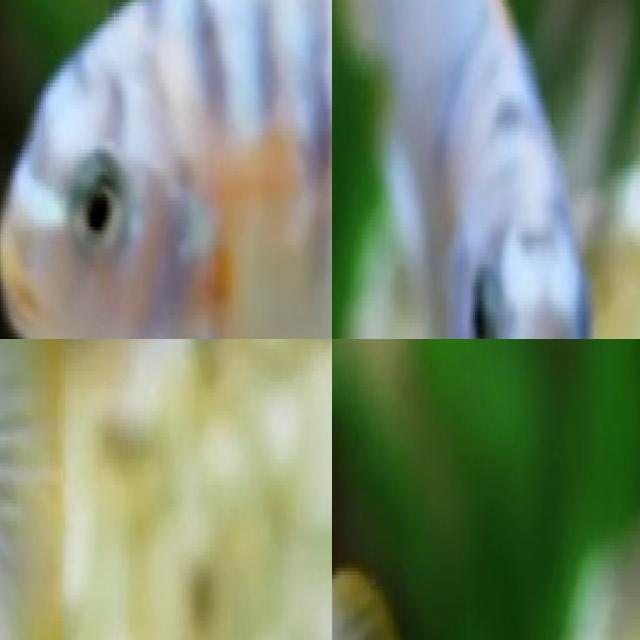fish: (0, 0, 332, 339), (332, 0, 603, 339), (0, 339, 77, 640)
